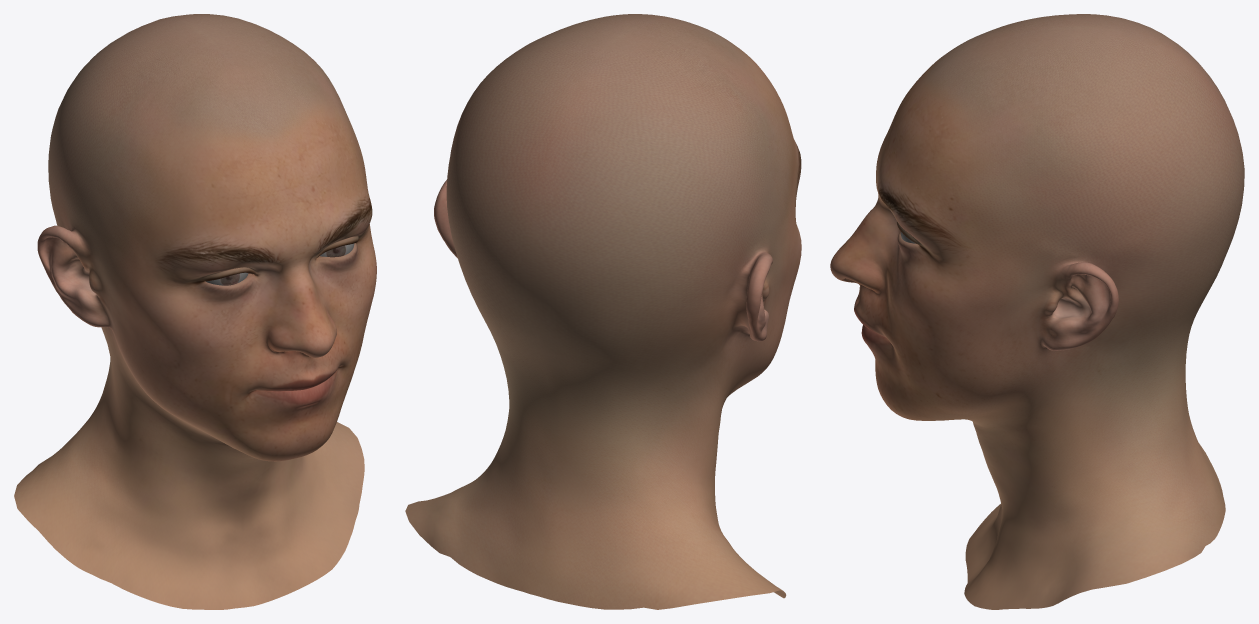
3 renders of one model, left to right at view 1: azimuth 30°, elevation 25°; view 2: azimuth 150°, elevation 25°; view 3: azimuth 270°, elevation 25°, orthographic. The views are drawn at different scales.
Parts seen in each view (by area): view 1: Registered head; view 2: Registered head; view 3: Registered head.
Boxes of the visible parts, x1=… form: Registered head: x1=14, y1=14, x2=376, y2=609; Registered head: x1=405, y1=14, x2=801, y2=609; Registered head: x1=830, y1=14, x2=1244, y2=609.
Bounding box in the file's own units: 1.25 × 1.92 × 1.31.
3 materials, 3 textured.
